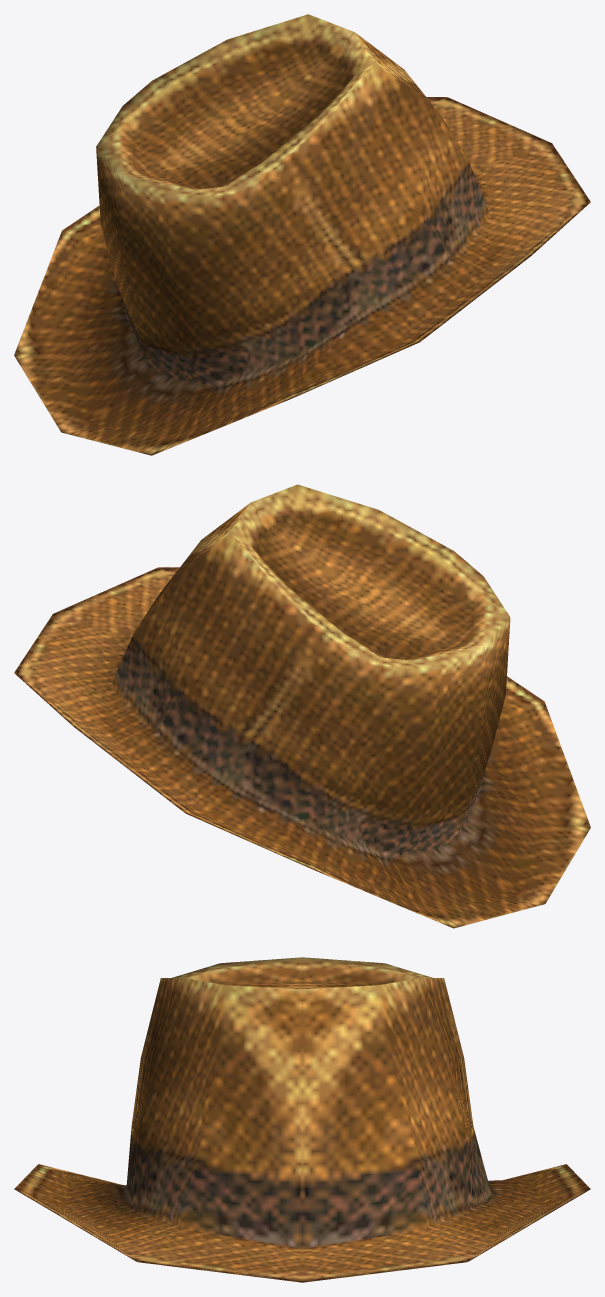
File: hat_0400050.FBX
3 renders of one model, top to bottom at view 1: azimuth 30°, elevation 25°; view 2: azimuth 150°, elevation 25°; view 3: azimuth 270°, elevation 25°, orthographic. The views are drawn at different scales.
Visible parts, largest first — view 1: hat_0400050; view 2: hat_0400050; view 3: hat_0400050.
Boxes of the visible parts, left/top/right/bottom form: hat_0400050: left=14, top=14, right=590, bottom=455; hat_0400050: left=14, top=484, right=590, bottom=928; hat_0400050: left=14, top=957, right=590, bottom=1282.
Bounding box in the file's own units: 43.03 × 27.53 × 38.11.
